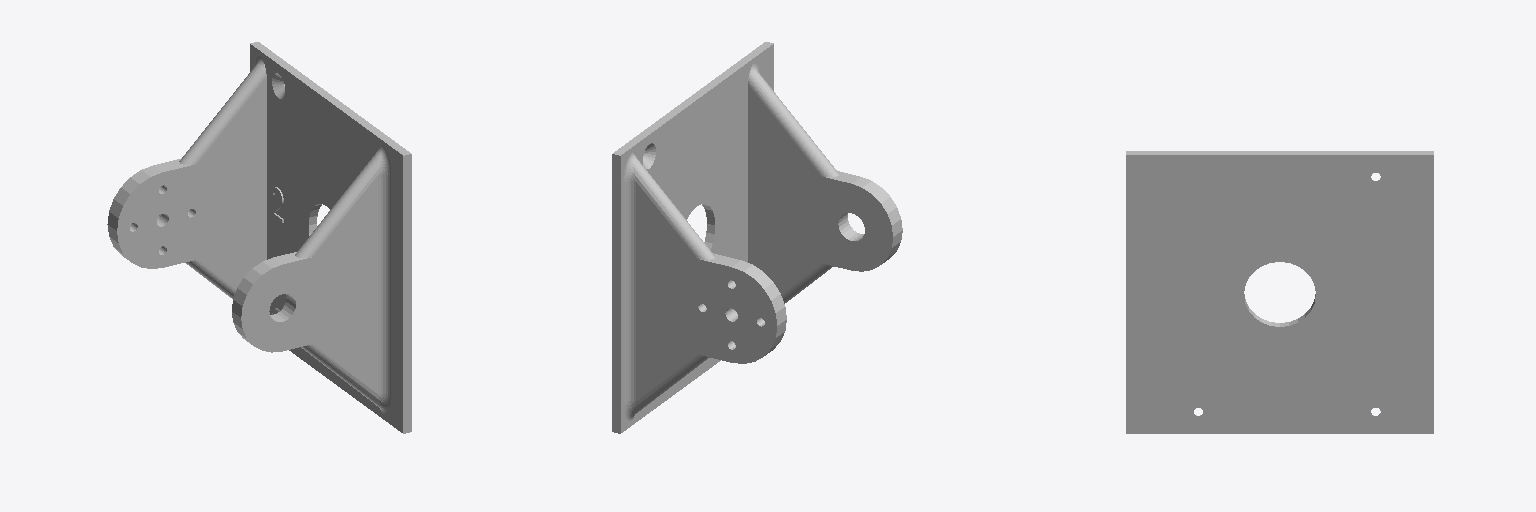
The model's file is upper.obj.
The picture shows the model from 3 angles: view 1: azimuth 30°, elevation 25°; view 2: azimuth 150°, elevation 25°; view 3: azimuth 270°, elevation 25°; orthographic projection.
Visible parts, largest first — view 1: upper; view 2: upper; view 3: upper.
Boxes of the visible parts, <box> form: upper: <box>107,42,411,433</box>; upper: <box>612,42,902,433</box>; upper: <box>1126,151,1433,433</box>.
Size of the model in its own units: 0.038 by 0.064 by 0.064.